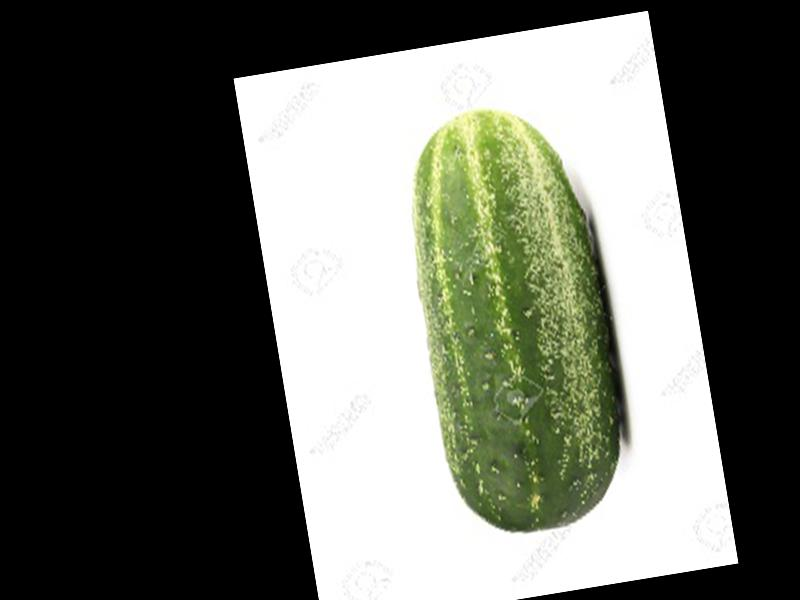Cucumber: (391, 98, 641, 546)
